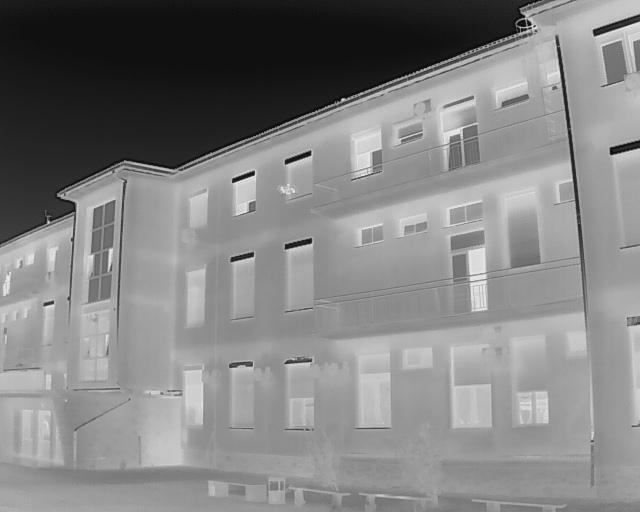drone: (272, 181, 301, 198)
